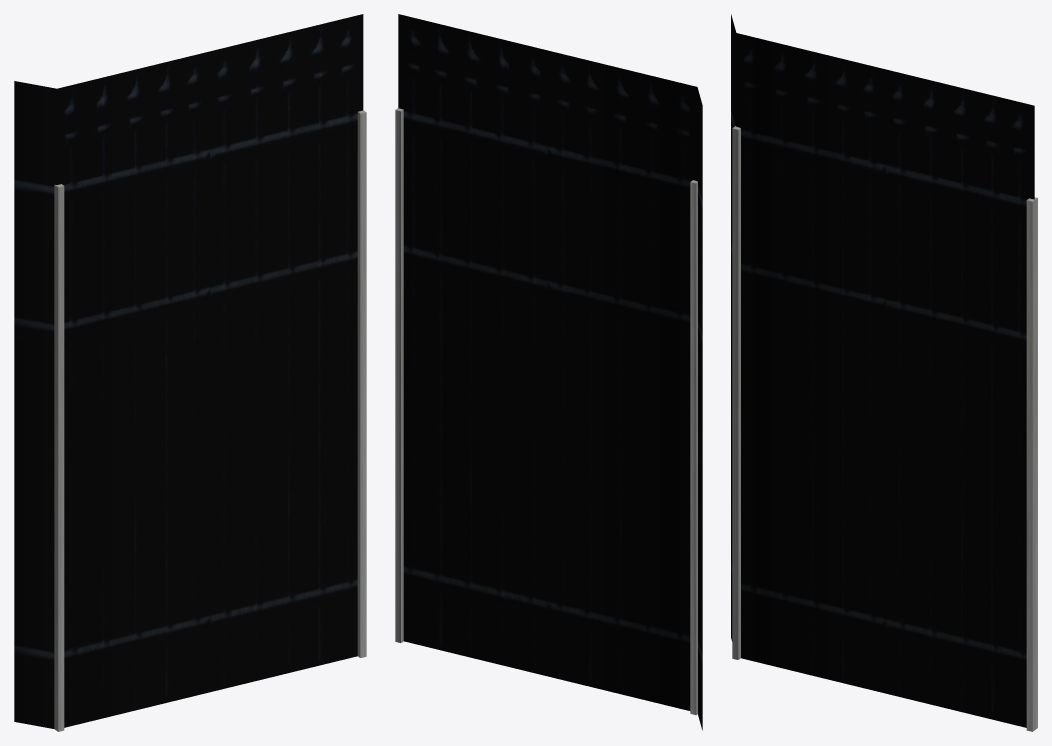
Rendered from english_wall_gate_l.fbx.
3 views of the same model, side by side, from view 1: azimuth 30°, elevation 25°; view 2: azimuth 150°, elevation 25°; view 3: azimuth 330°, elevation 25° (orthographic). The views are drawn at different scales.
Parts seen in each view (by area): view 1: pPlane1, pCube3, pCube4; view 2: pPlane2, pPlane1, pCube4, pCube3; view 3: pPlane1, pCube4, pCube3.
Part boxes in pixels (box(x1,y1,x2,y2)): pPlane1: box(14, 14, 363, 728); pCube3: box(54, 184, 64, 731); pCube4: box(357, 110, 366, 657); pPlane2: box(398, 14, 702, 730); pPlane1: box(403, 55, 702, 726); pCube4: box(395, 108, 403, 642); pCube3: box(690, 180, 697, 715); pPlane1: box(731, 14, 1034, 727); pCube4: box(1026, 197, 1037, 731); pCube3: box(732, 126, 740, 659).
Bounding box in the file's own units: 1620 × 3000 × 180.
Materials: 2 (2 with a texture image).
